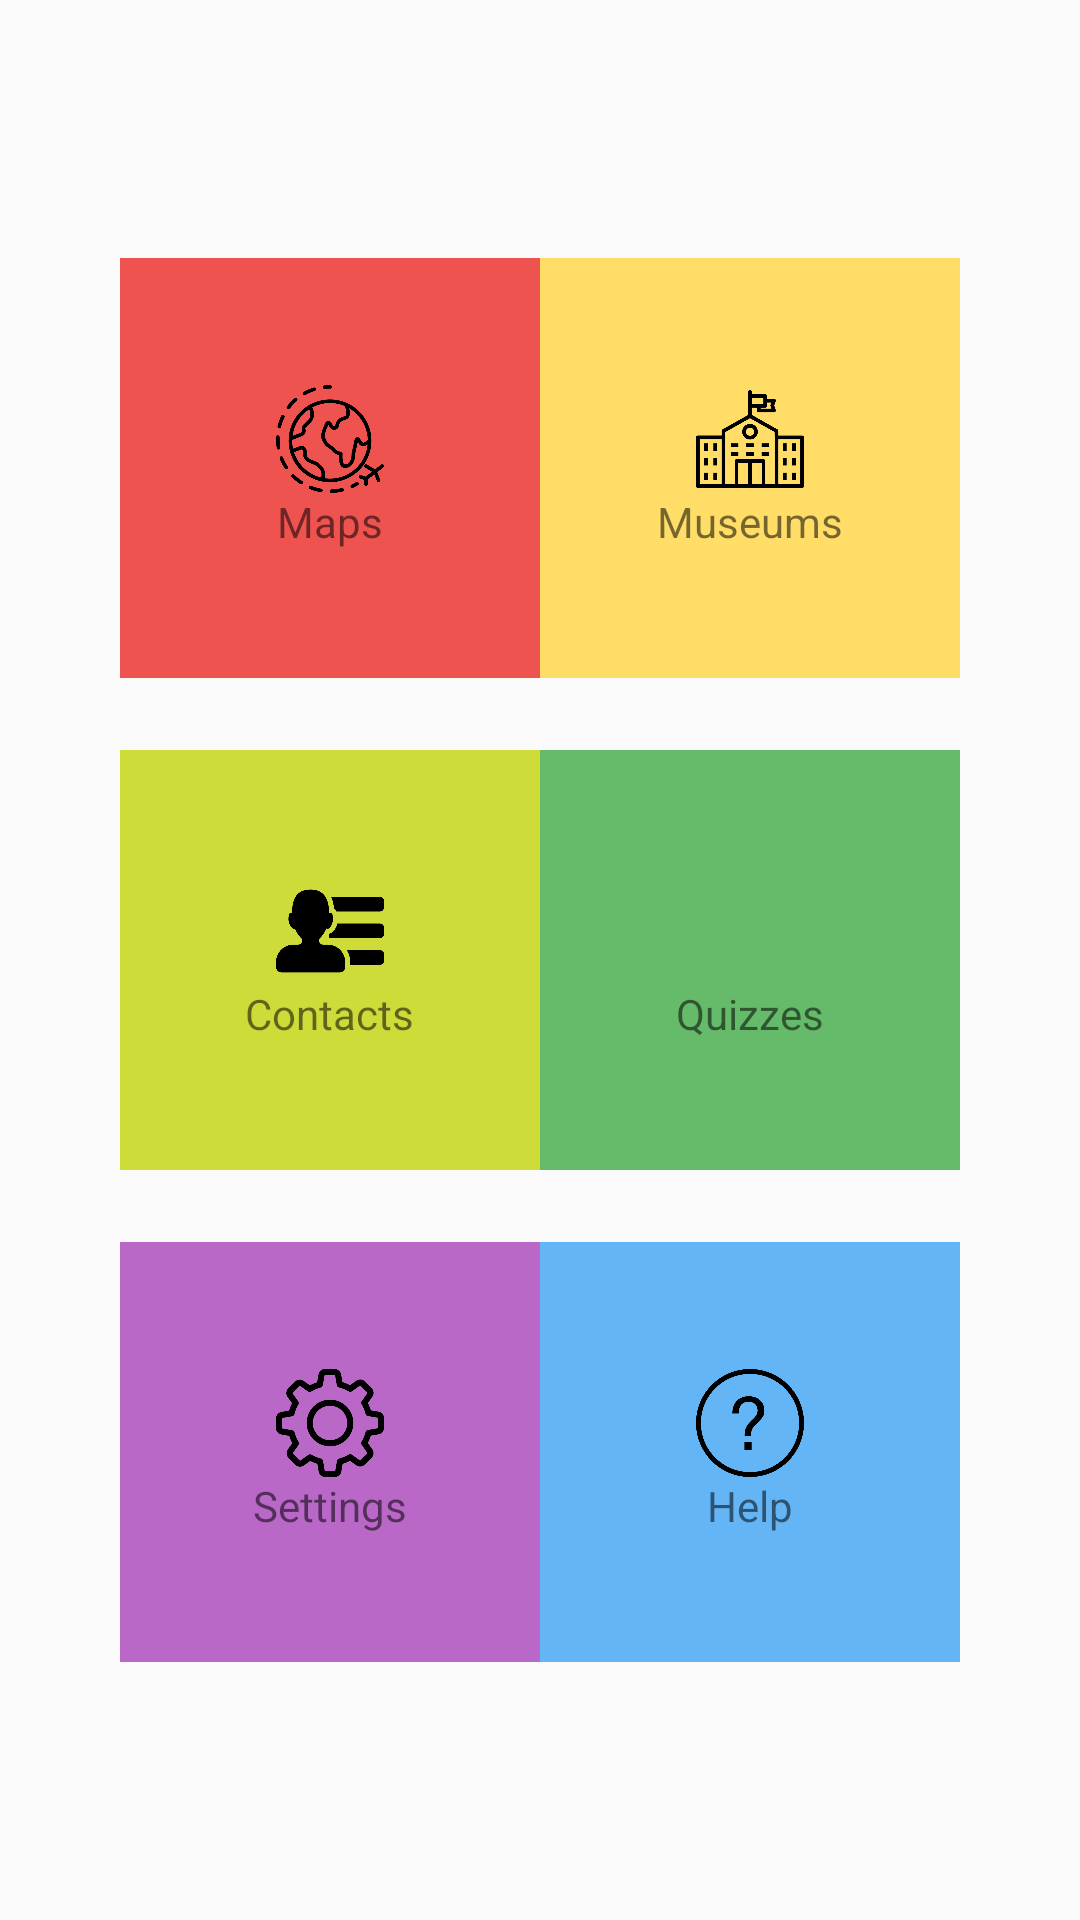

Point at icon controls on the screen. Image size 1080 x 1920, points as point (x, y).
personal: point (330, 931)
questions: point (750, 1423)
world: point (330, 439)
